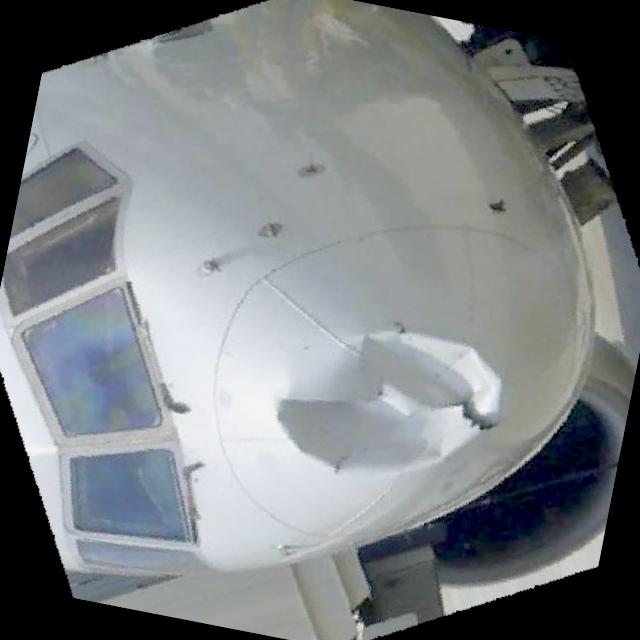dent: (260, 304, 520, 506)
